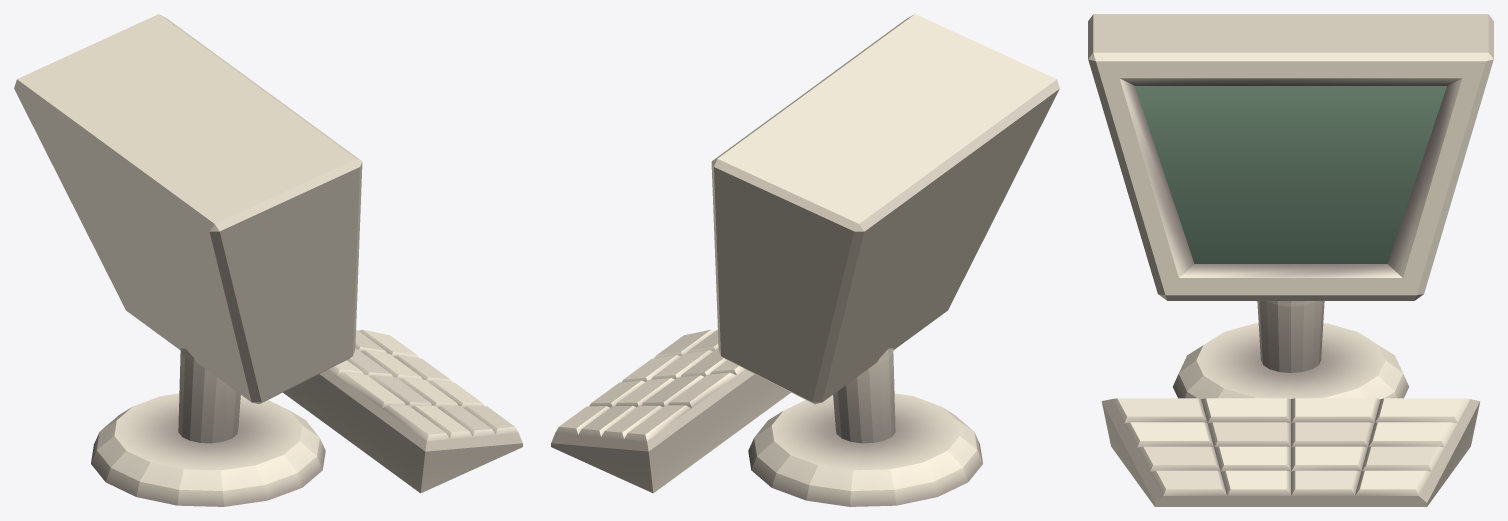
File: computador.fbx
3 renders of one model, left to right at view 1: azimuth 30°, elevation 25°; view 2: azimuth 150°, elevation 25°; view 3: azimuth 270°, elevation 25°, orthographic.
Parts seen in each view (by area): view 1: computador; view 2: computador; view 3: computador.
Boxes of the visible parts, <box> form: computador: <box>14,14,522,506</box>; computador: <box>551,14,1059,506</box>; computador: <box>1088,14,1493,506</box>.
Size of the model in its own units: 236 by 232 by 238.
